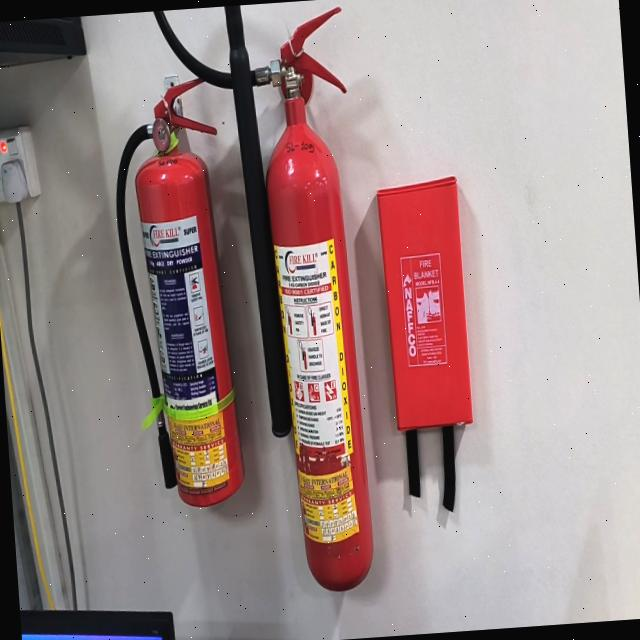Fire Extinguisher: (266, 96, 372, 590), (135, 119, 243, 506)
Monitor: (19, 610, 175, 640)
